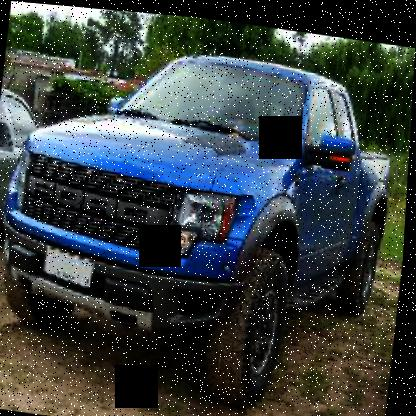not_emergency: (0, 10, 415, 403)
